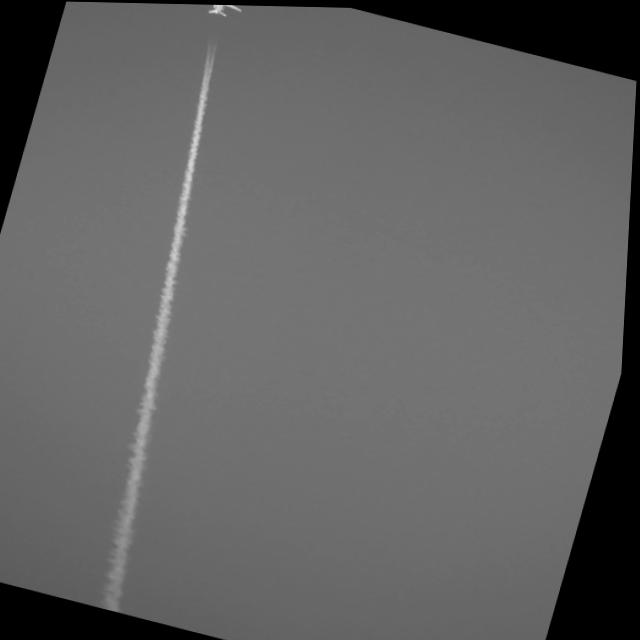aeroplane: (193, 3, 246, 21)
